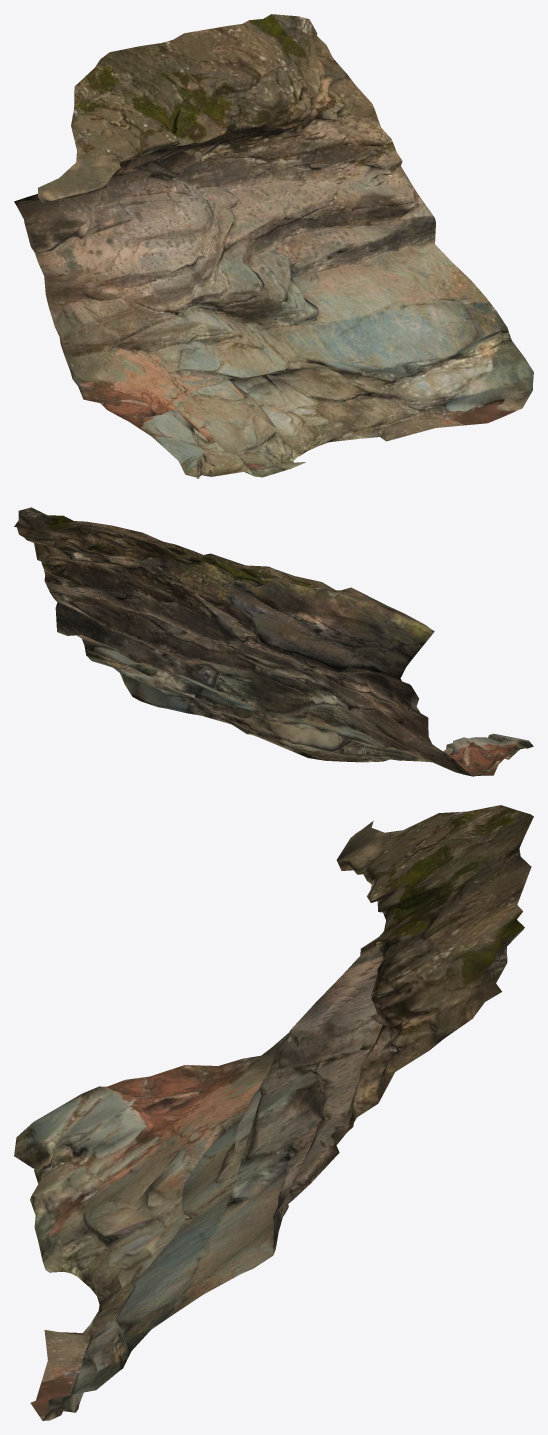
The model's file is vach-da-1.glb.
3 renders of one model, top to bottom at view 1: azimuth 30°, elevation 25°; view 2: azimuth 150°, elevation 25°; view 3: azimuth 270°, elevation 25°, orthographic. The views are drawn at different scales.
Visible parts, largest first — view 1: rock_face_01; view 2: rock_face_01; view 3: rock_face_01.
Part boxes in pixels (x1,y1,x2,y2): rock_face_01: (14, 14, 533, 478); rock_face_01: (14, 507, 533, 776); rock_face_01: (14, 805, 533, 1420).
Bounding box in the file's own units: 0.9979 × 0.7184 × 0.7668.
1 material, 1 textured.
